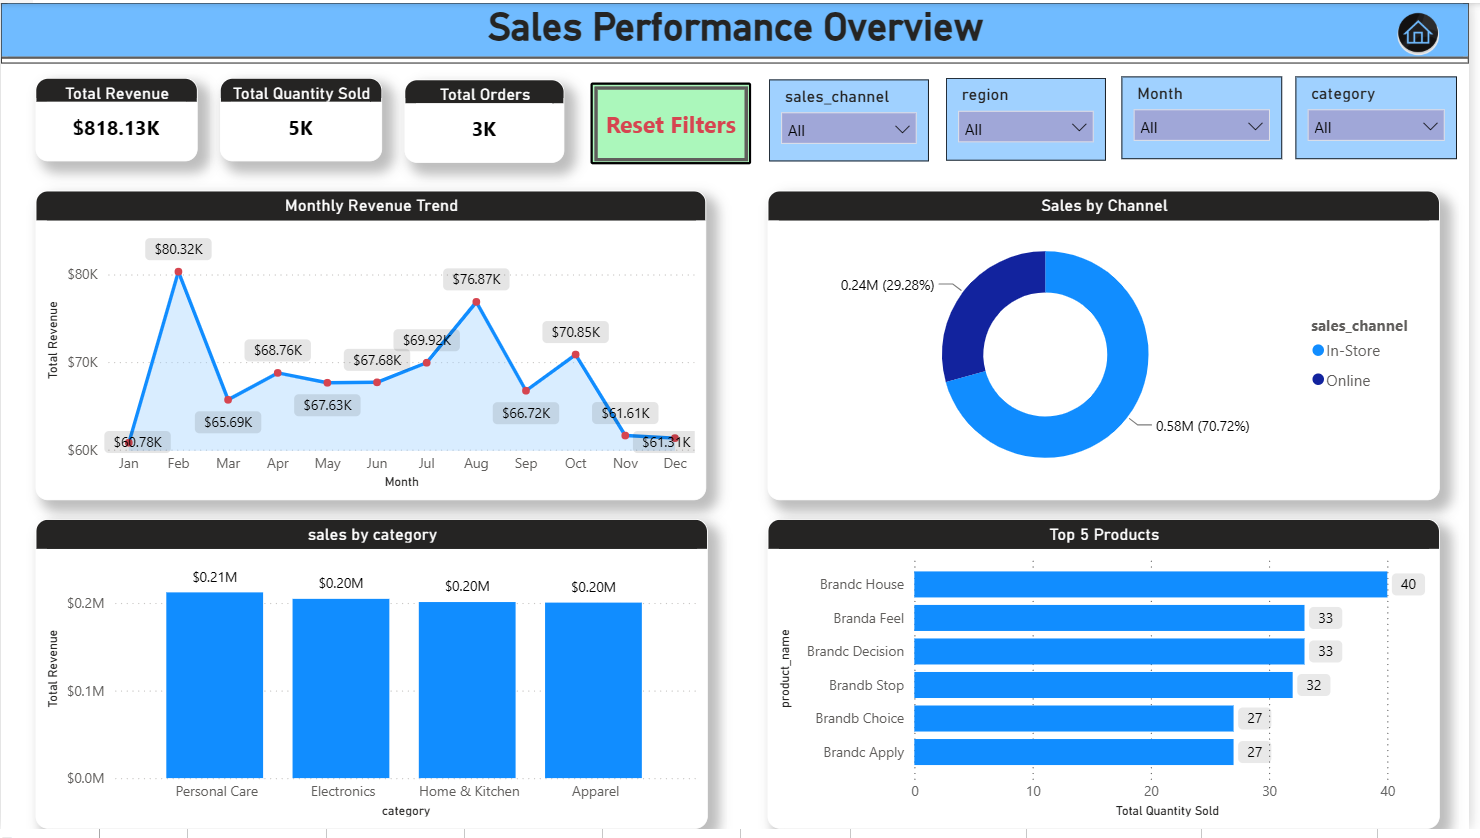

Layout of this report page (visuals, bound fields, positions):
{"tool":"powerbi","page":{"name":"DASHBOARD1","canvas":[1280,720],"ordinal":6},"visuals":[{"type":"textbox","title":"Sales Performance Overview","box":[0,0,1279.6,52.8],"z":0},{"type":"cardVisual","title":"Total Revenue","fields":{"Data":["DateTable.Total Revenue"]},"box":[29.5,65.1,141.1,72.9],"z":1000},{"type":"cardVisual","title":"Total Quantity Sold","fields":{"Data":["DateTable.Total Quantity Sold"]},"box":[190.8,65.1,141.1,72.9],"z":2000},{"type":"cardVisual","title":"Total Orders","fields":{"Data":["DateTable.Total Orders"]},"box":[352.1,66.7,139.6,72.9],"z":3000},{"type":"slicer","fields":{"Values":["DateTable.Month"]},"box":[976.9,63.7,140,72],"z":4000},{"type":"slicer","fields":{"Values":["cleaned_products.category"]},"box":[1128.2,63.7,140.7,72],"z":5000},{"type":"slicer","fields":{"Values":["cleaned_stores.region"]},"box":[824.3,65,139.4,72],"z":6000},{"type":"slicer","fields":{"Values":["cleaned_sales.sales_channel"]},"box":[670,66.7,139.6,71.3],"z":7000},{"type":"lineChart","title":"Monthly Revenue Trend","fields":{"Y":["DateTable.Total Revenue"],"Category":["DateTable.Month"]},"box":[29.5,162.8,584.7,269.9],"z":8000},{"type":"donutChart","title":"Sales by Channel","fields":{"Y":["DateTable.Total Revenue"],"Category":["cleaned_sales.sales_channel"]},"box":[668.4,162.8,586.2,269.9],"z":9000},{"type":"clusteredColumnChart","title":"sales by category","fields":{"Category":["cleaned_products.category"],"Y":["DateTable.Total Revenue"]},"box":[29.5,449.8,586.2,269.9],"z":10000},{"type":"clusteredBarChart","title":"Top 5 Products","fields":{"Category":["cleaned_products.product_name"],"Y":["DateTable.Total Quantity Sold"]},"box":[668.4,449.8,586.2,269.9],"z":11000},{"type":"actionButton","title":"Reset Filters","box":[514.3,69.5,140,71.5],"z":12000},{"type":"image","box":[1203.4,1.4,64.7,49.6],"z":13000}]}

Visuals, with their boxes in screenshot pixels (x1, y1, x2, y2), scaled from the page's 1280x720 canvas onto the 1480x838 screenshot:
"Sales Performance Overview" textbox: (0,0,1479,61)
"Total Revenue" cardVisual: (34,76,197,161)
"Total Quantity Sold" cardVisual: (221,76,384,161)
"Total Orders" cardVisual: (407,78,569,162)
slicer - DateTable.Month: (1130,74,1291,158)
slicer - cleaned_products.category: (1304,74,1467,158)
slicer - cleaned_stores.region: (953,76,1114,159)
slicer - cleaned_sales.sales_channel: (775,78,936,161)
"Monthly Revenue Trend" lineChart: (34,189,710,504)
"Sales by Channel" donutChart: (773,189,1451,504)
"sales by category" clusteredColumnChart: (34,524,712,837)
"Top 5 Products" clusteredBarChart: (773,524,1451,837)
"Reset Filters" actionButton: (595,81,757,164)
image: (1391,2,1466,59)
